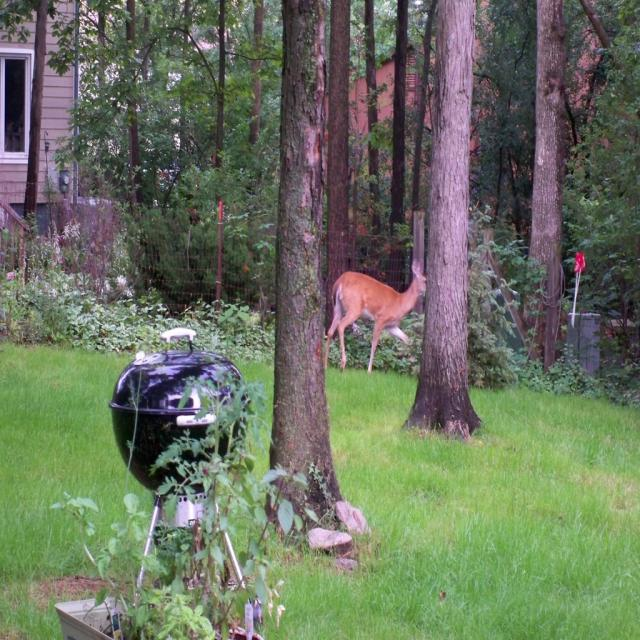Deer: (324, 256, 434, 369)
